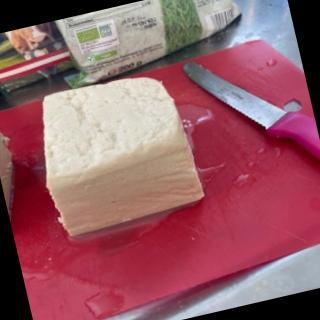Tahu: (41, 77, 206, 240)
